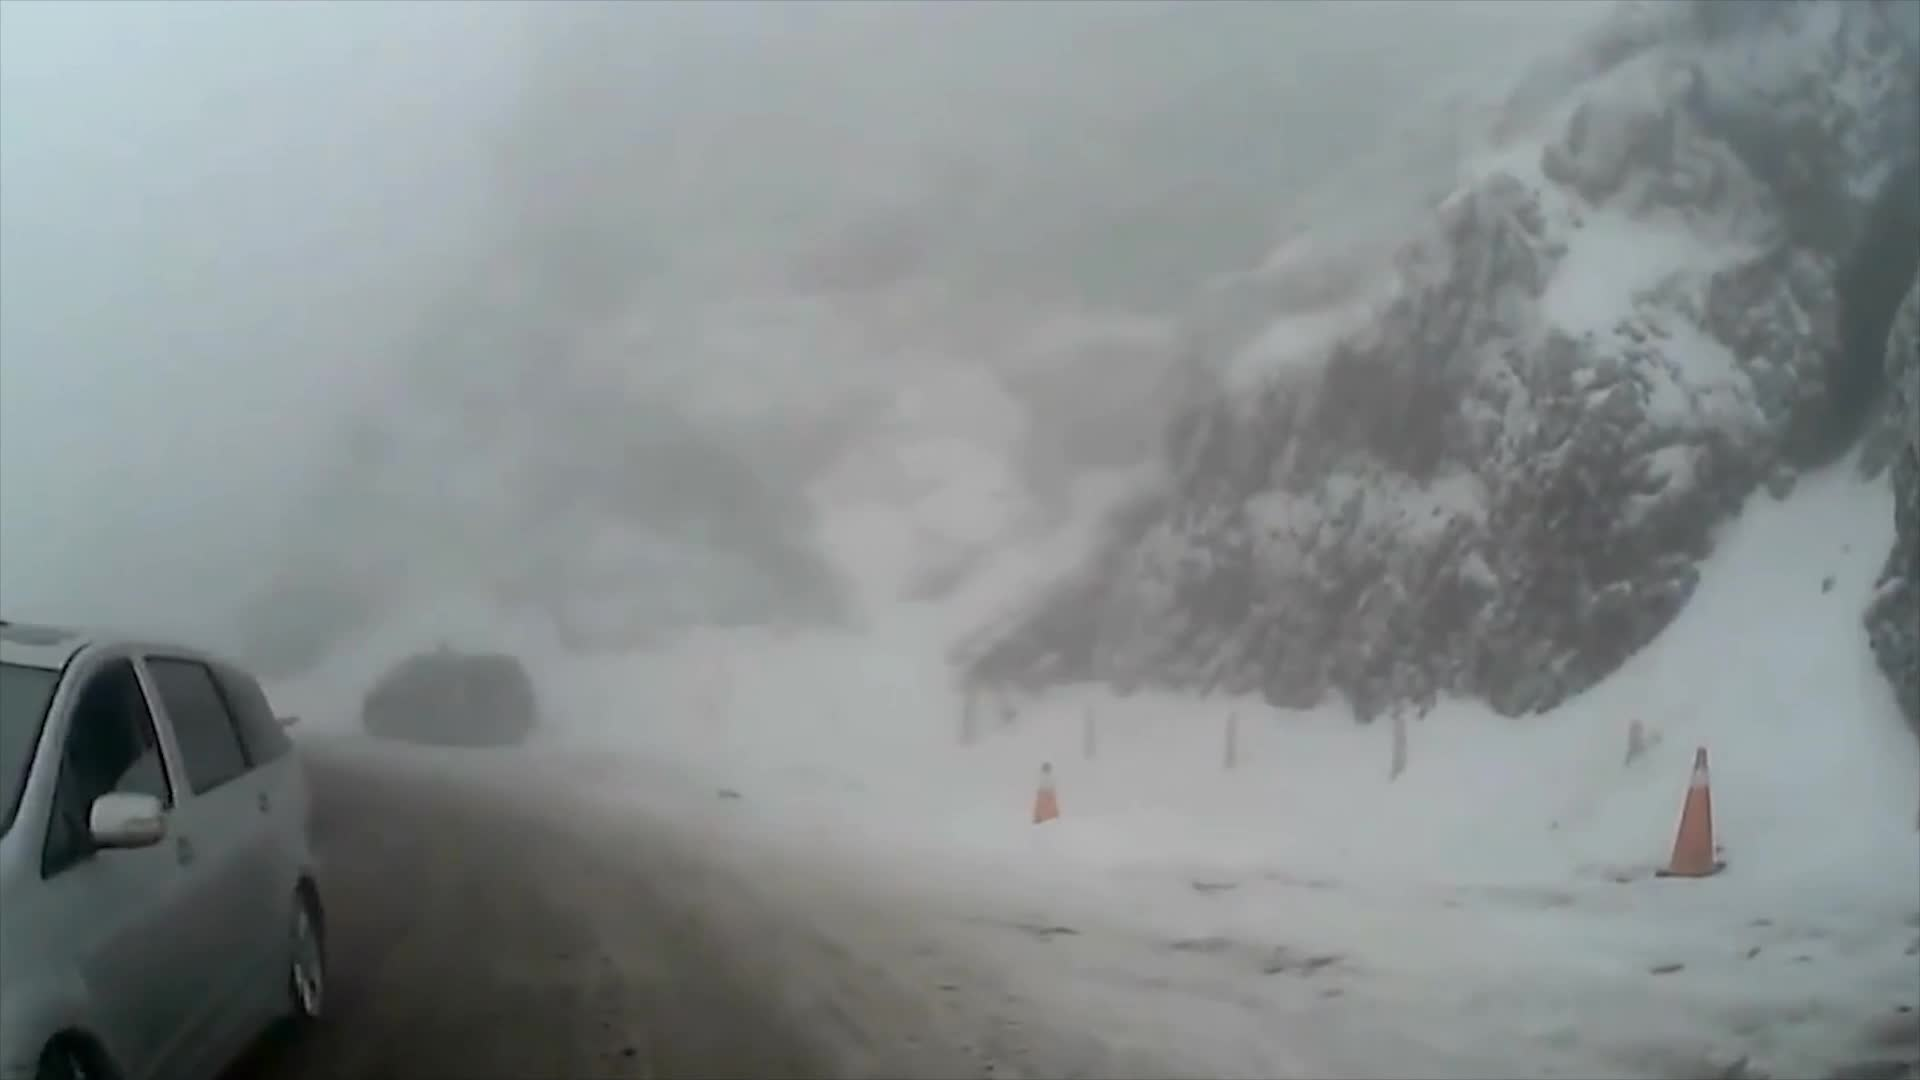vehicle: (0, 622, 335, 1079), (356, 651, 535, 752)
